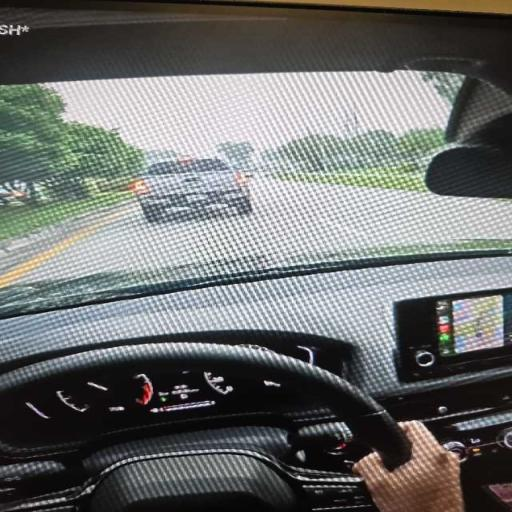car: (0, 0, 511, 511), (132, 159, 251, 221)
lane: (20, 177, 511, 282)
person: (354, 422, 463, 511)
